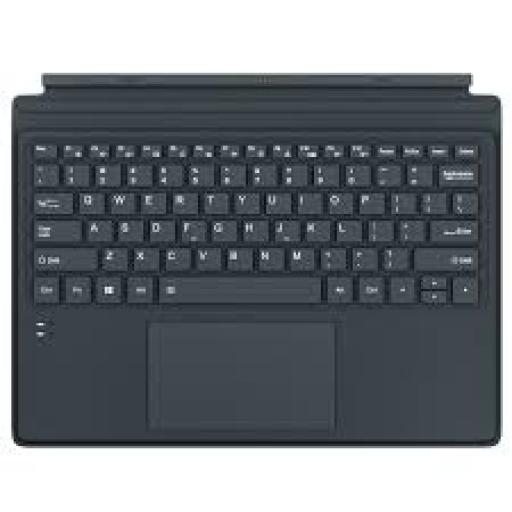keyboard: (11, 75, 501, 444)
